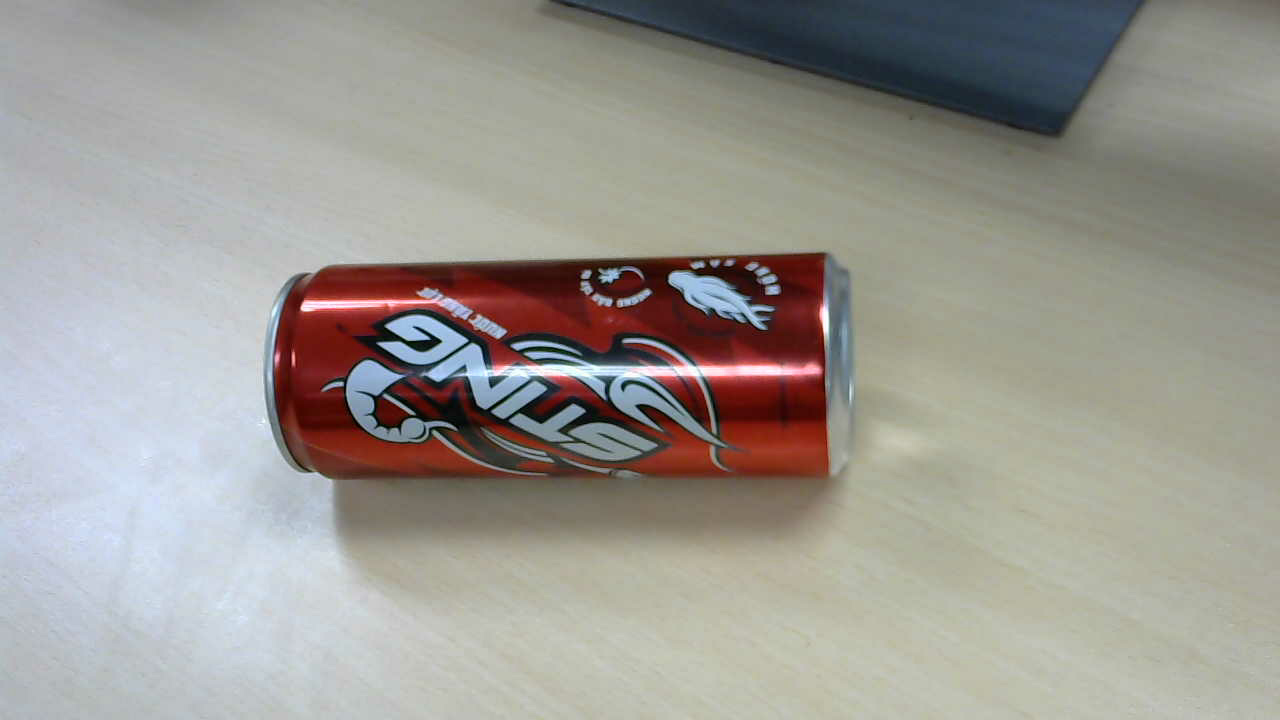Sting: (272, 256, 860, 490)
